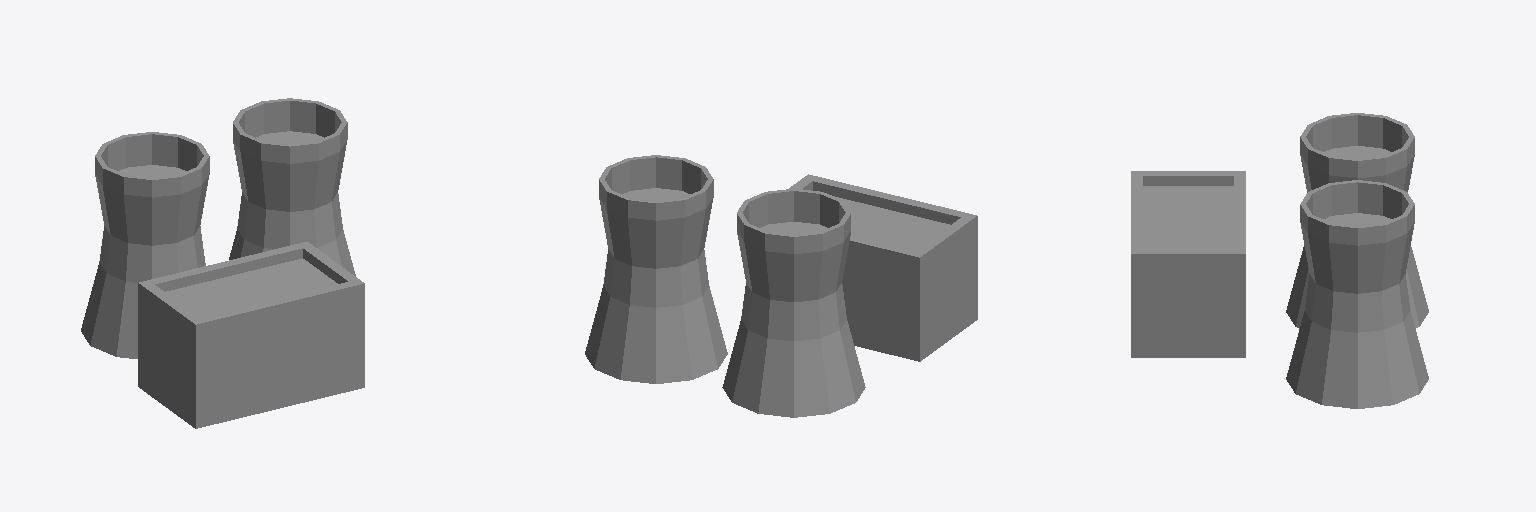
Rendered from factory.obj.
The picture shows the model from 3 angles: view 1: azimuth 30°, elevation 25°; view 2: azimuth 150°, elevation 25°; view 3: azimuth 270°, elevation 25°; orthographic projection.
Visible parts, largest first — view 1: Cube.001, Cube; view 2: Cube.001, Cube; view 3: Cube.001, Cube.
Part boxes in pixels (x1,y1,x2,y2): Cube.001: (81,132,364,428); Cube: (229,98,355,276); Cube.001: (722,174,977,417); Cube: (585,155,727,383); Cube.001: (1131,113,1428,357); Cube: (1286,180,1428,408).
Bounding box in the file's own units: 5.42 × 3.35 × 5.19.